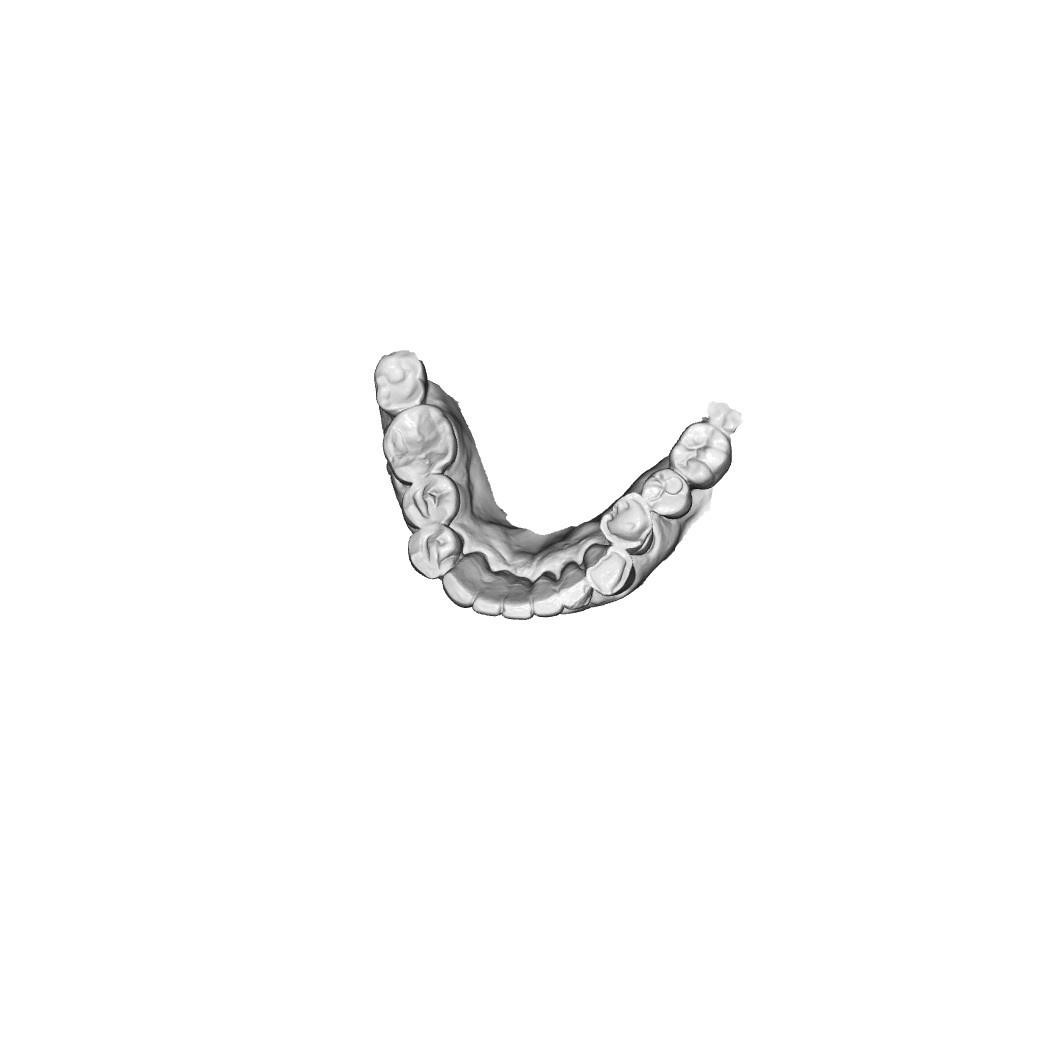canine: (586, 543, 635, 598), (441, 558, 486, 610)
incisor: (559, 564, 593, 611), (500, 578, 536, 622), (470, 575, 507, 617), (533, 575, 565, 621)
molar: (383, 406, 456, 484), (668, 420, 734, 491), (372, 348, 428, 414)
premolar: (599, 492, 656, 555), (405, 523, 463, 582), (401, 473, 461, 530), (640, 466, 693, 521)
